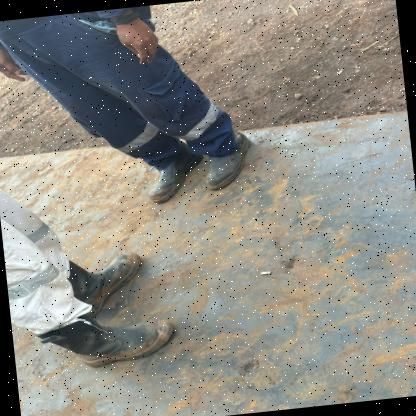bota: (29, 303, 182, 375), (52, 238, 148, 310), (194, 121, 257, 192), (142, 150, 196, 206)
